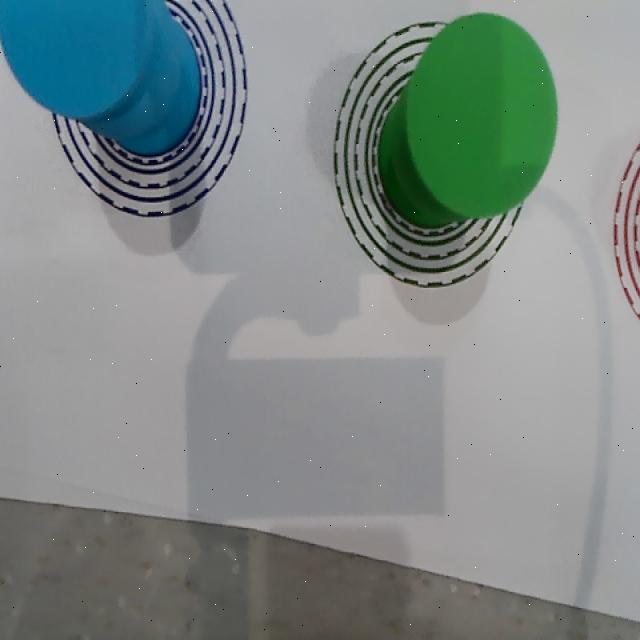g: (408, 13, 557, 215)
